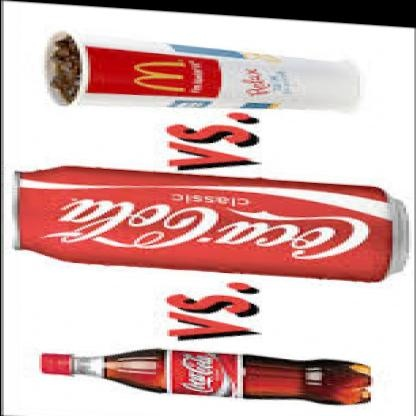trash: (18, 166, 406, 281), (46, 32, 359, 109), (40, 349, 370, 403)
